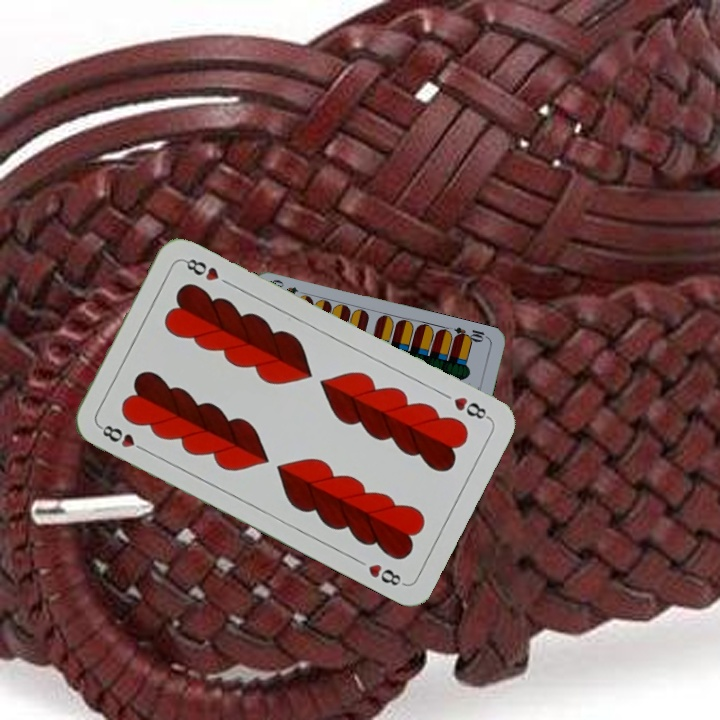E10: (450, 323, 491, 345)
H8: (95, 421, 150, 455), (449, 392, 493, 422)
